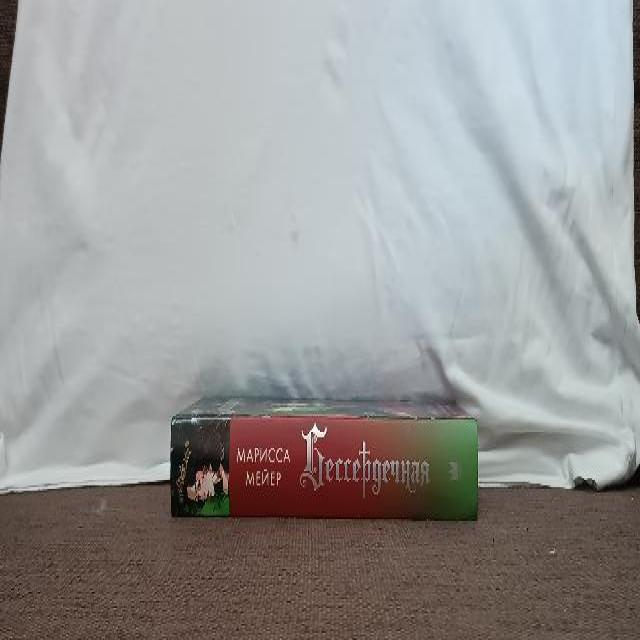book: (171, 418, 477, 517)
